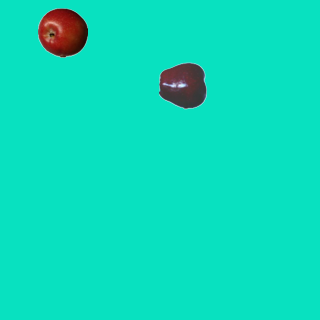Apple Braeburn: (37, 7, 87, 57)
Apple Red Delicious: (158, 60, 208, 110)
